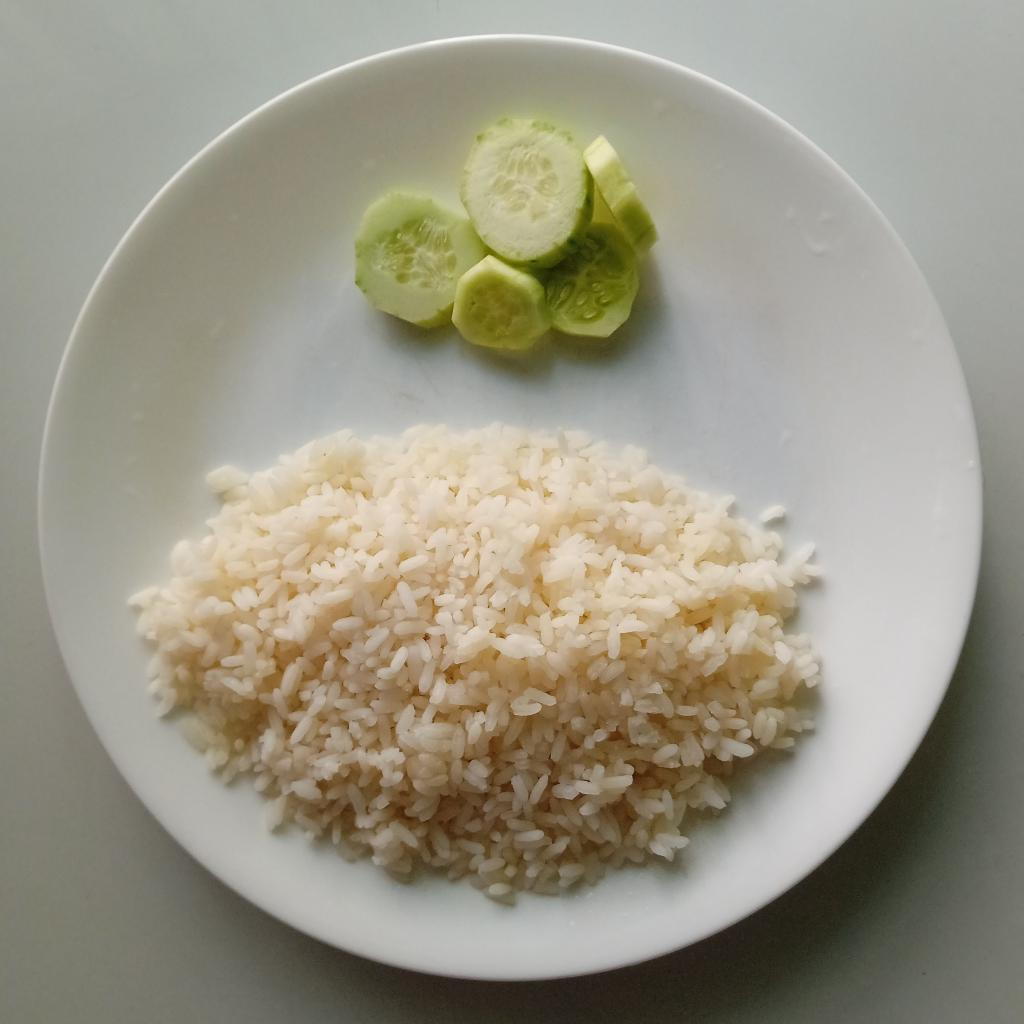cucumber: (350, 119, 662, 351)
rice: (130, 426, 818, 901)
